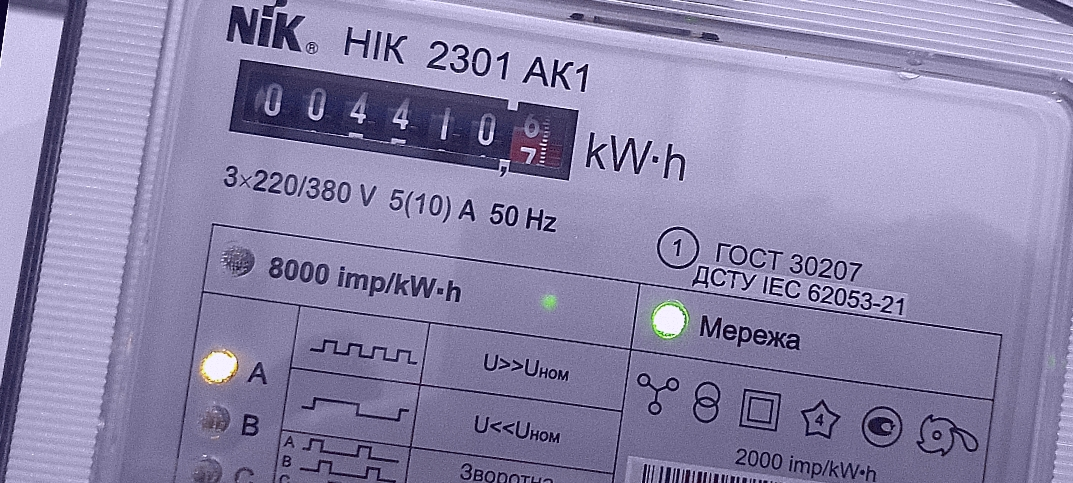0: (259, 78, 285, 118), (473, 109, 498, 147), (304, 83, 327, 123)
1: (434, 103, 453, 142)
4: (387, 92, 414, 134), (345, 85, 371, 126)
6: (522, 111, 542, 139)
7: (515, 143, 537, 165)
screen: (215, 44, 593, 194)
